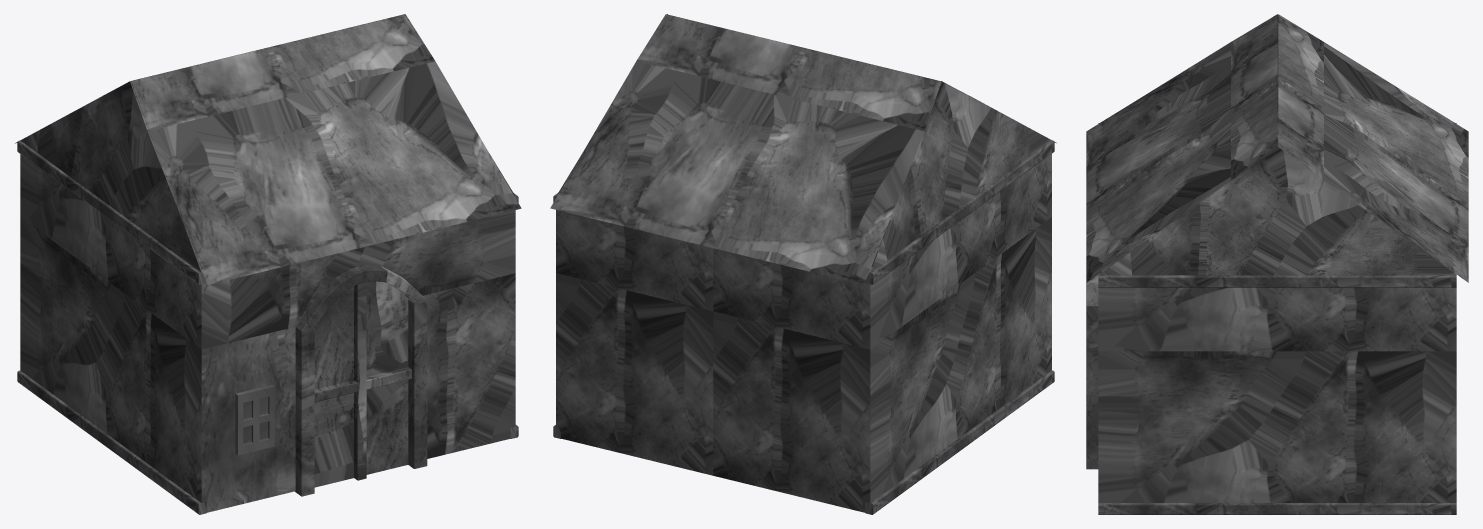
The model's file is house 1.fbx.
The picture shows the model from 3 angles, left to right: view 1: azimuth 30°, elevation 25°; view 2: azimuth 150°, elevation 25°; view 3: azimuth 270°, elevation 25°; orthographic projection.
Parts seen in each view (by area): view 1: stone wall 1.010; view 2: stone wall 1.010; view 3: stone wall 1.010.
Part boxes in pixels (x1=…): stone wall 1.010: x1=15, y1=14, x2=521, y2=514; stone wall 1.010: x1=550, y1=14, x2=1056, y2=514; stone wall 1.010: x1=1086, y1=14, x2=1468, y2=514.
Bounding box in the file's own units: 305 × 331 × 320.
